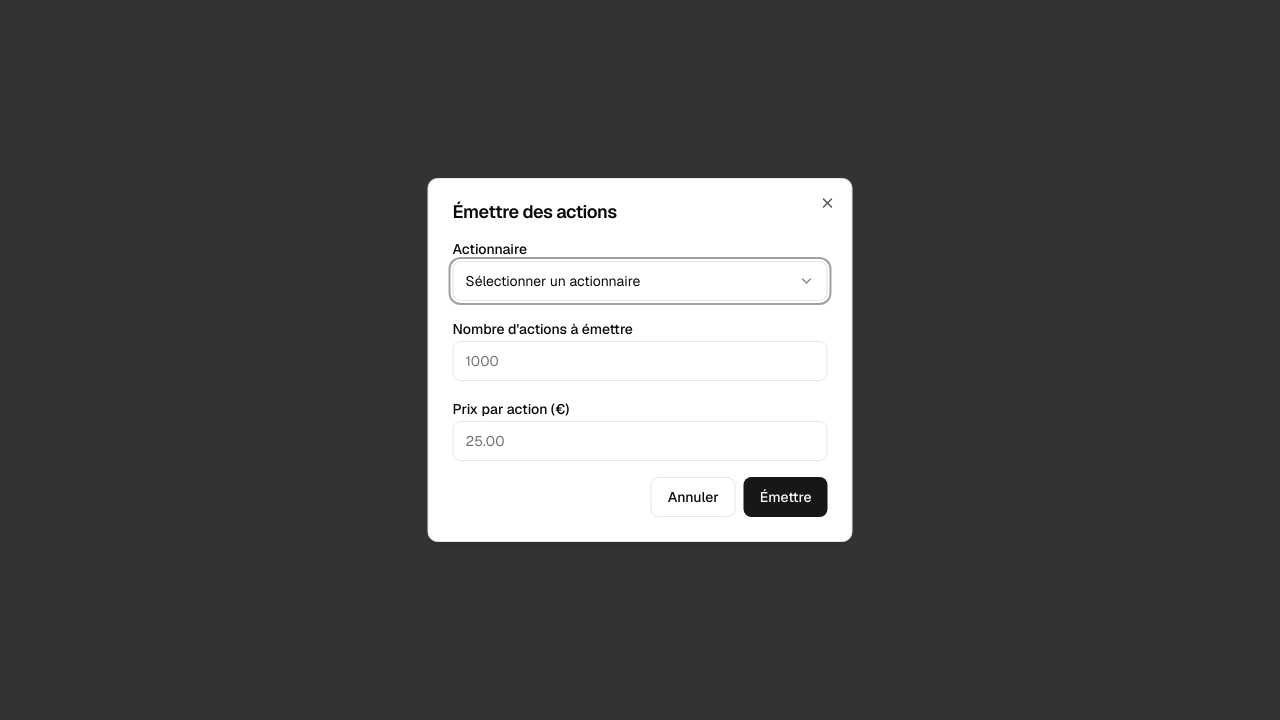
Test: IssueSharesModal › shows error when submitting without required fields
The width and height of the screenshot is (1280, 720).
Click the button "Émettre" at (786, 497), box [744, 477, 828, 517]
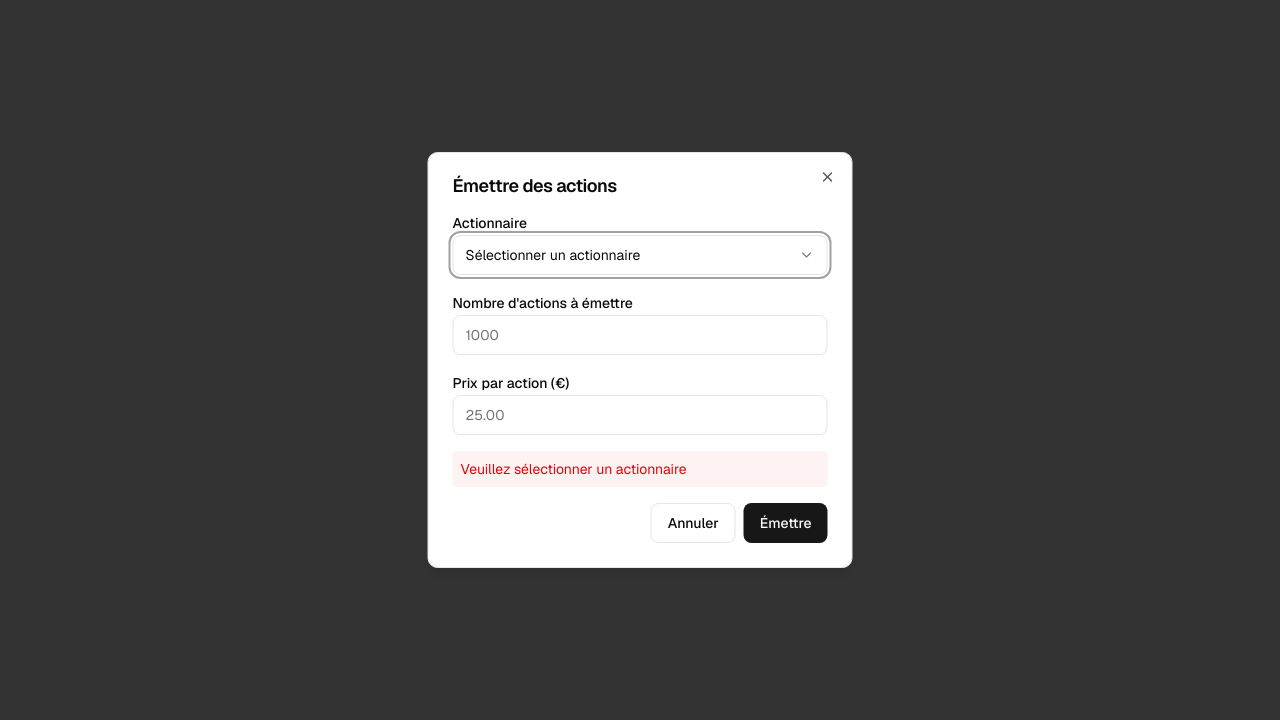
Check: the text "Veuillez sélectionner un actionnaire" is shown, box [452, 451, 828, 487]
